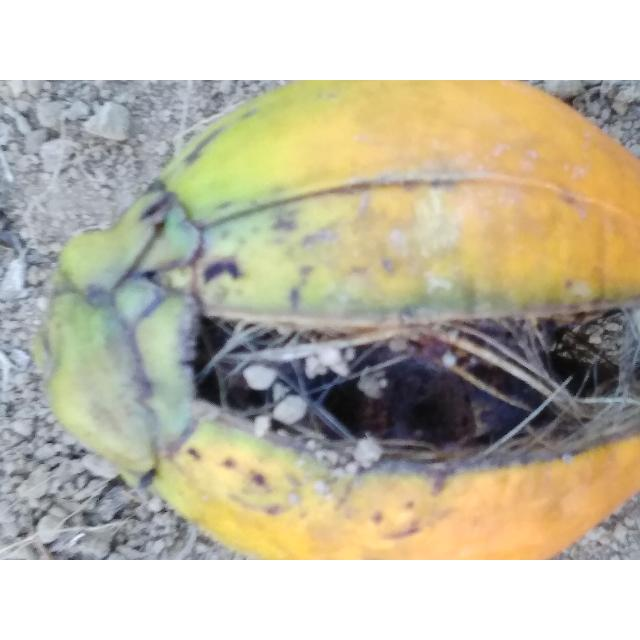damaged: (31, 80, 640, 560)
